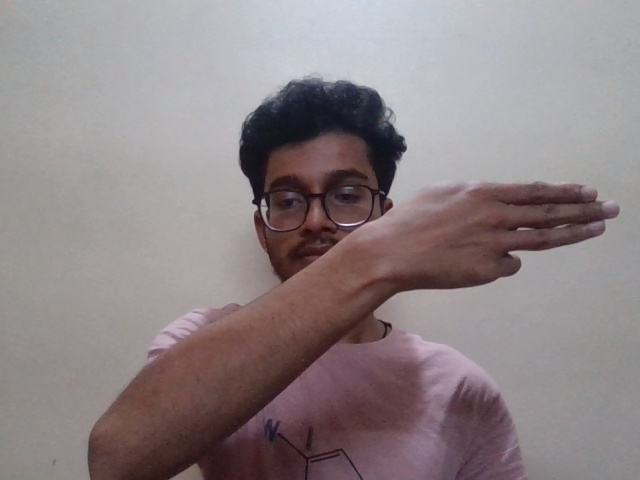wednesday: (303, 179, 630, 295)
